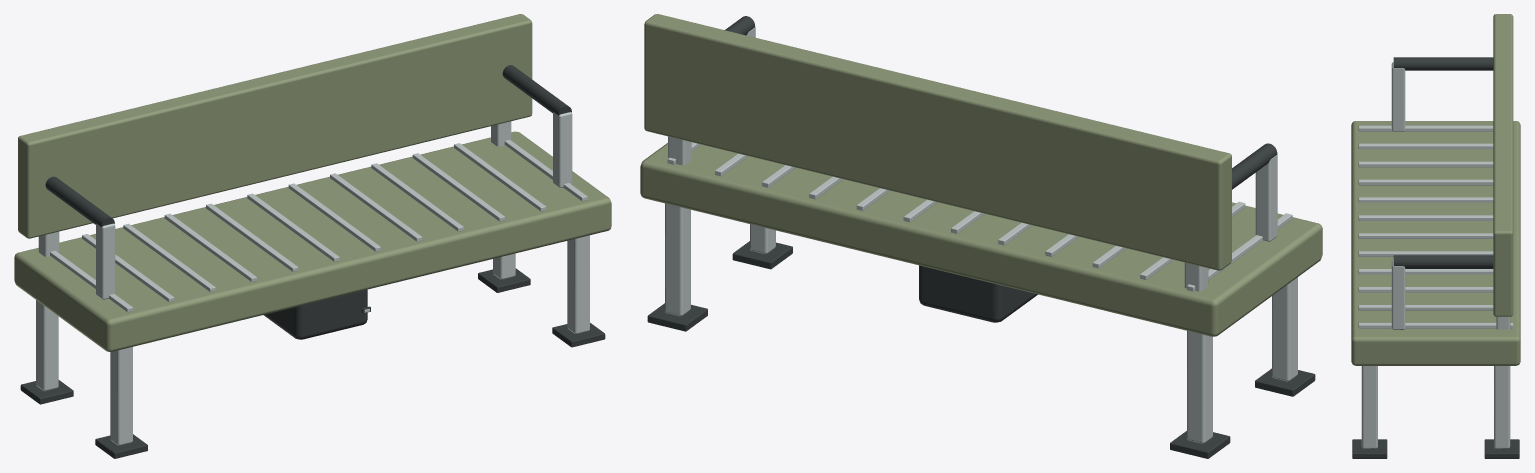
File: mountain-border-checkpoint-mountain-border-checkpoint--c3032d67__30333.glb
The picture shows the model from 3 angles, left to right: view 1: azimuth 30°, elevation 25°; view 2: azimuth 150°, elevation 25°; view 3: azimuth 270°, elevation 25°; orthographic projection. The views are drawn at different scales.
Parts seen in each view (by area): view 1: mountain-border-checkpoint-heated-waiting-bench; view 2: mountain-border-checkpoint-heated-waiting-bench; view 3: mountain-border-checkpoint-heated-waiting-bench.
Boxes of the visible parts, x1=… form: mountain-border-checkpoint-heated-waiting-bench: x1=14, y1=14, x2=611, y2=458; mountain-border-checkpoint-heated-waiting-bench: x1=640, y1=14, x2=1322, y2=458; mountain-border-checkpoint-heated-waiting-bench: x1=1351, y1=14, x2=1520, y2=458.
Bounding box in the file's own units: 2.08 × 1.02 × 0.68.
